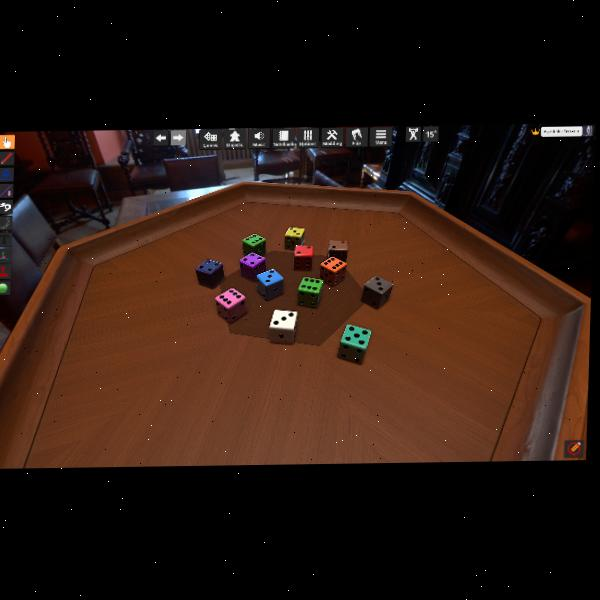d6: (337, 324, 370, 363), (214, 287, 247, 324), (361, 275, 393, 310), (268, 309, 296, 344), (255, 268, 284, 300), (194, 258, 223, 289), (319, 255, 347, 285), (238, 252, 266, 282), (297, 275, 323, 307), (241, 233, 266, 257), (327, 239, 348, 263), (293, 245, 313, 270), (284, 227, 304, 250)
